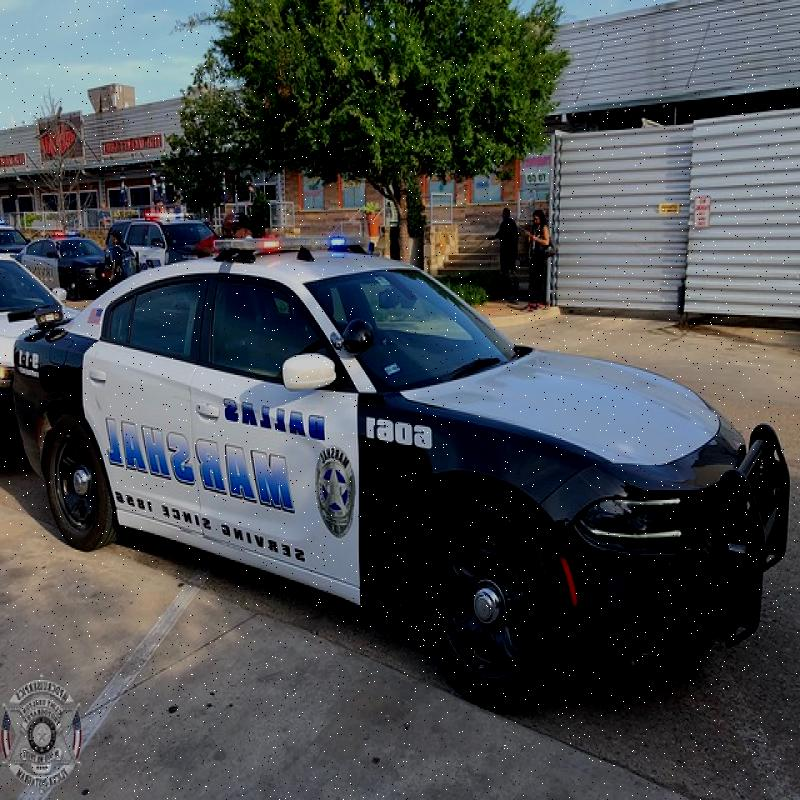AmbulanceSiren: (212, 217, 382, 269)
